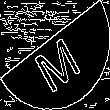M_NW: (27, 21, 83, 89)
